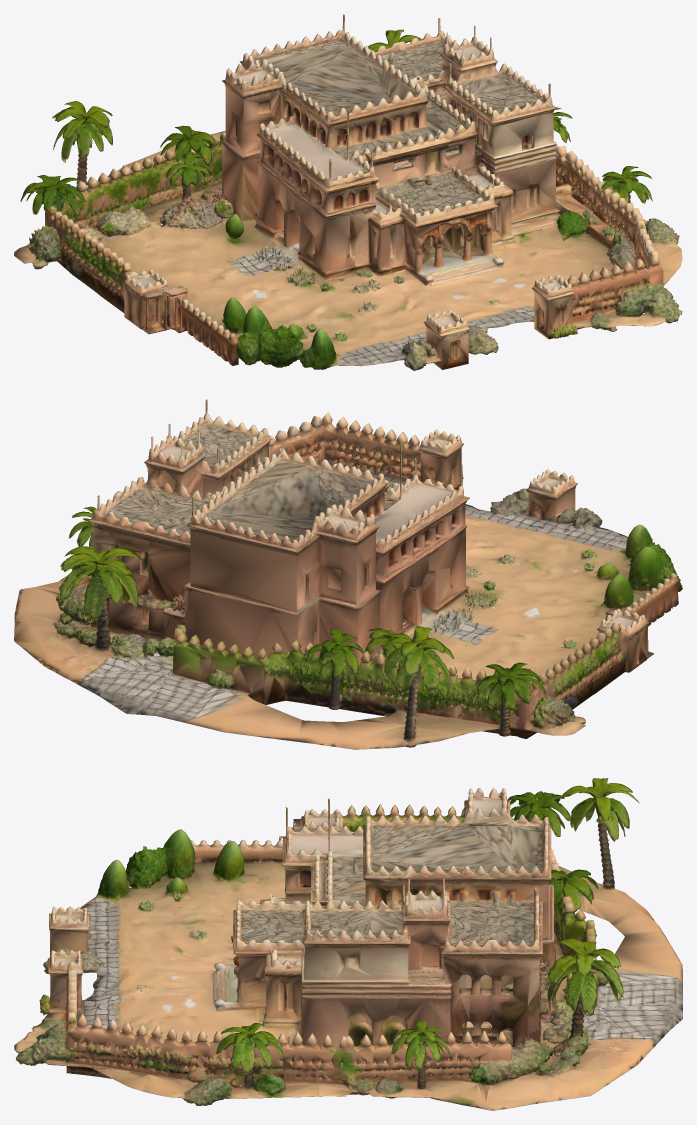
Rendered from Desert_Fortress.glb.
3 renders of one model, top to bottom at view 1: azimuth 30°, elevation 25°; view 2: azimuth 150°, elevation 25°; view 3: azimuth 270°, elevation 25°, orthographic. The views are drawn at different scales.
Parts seen in each view (by area): view 1: Desert_Fortress; view 2: Desert_Fortress; view 3: Desert_Fortress.
Part boxes in pixels (left/top/right/bottom): Desert_Fortress: left=14, top=14, right=682, bottom=370; Desert_Fortress: left=14, top=399, right=682, bottom=749; Desert_Fortress: left=14, top=778, right=682, bottom=1110.
Bounding box in the file's own units: 1.88 × 0.546 × 1.9.
Materials: 1 (1 with a texture image).
